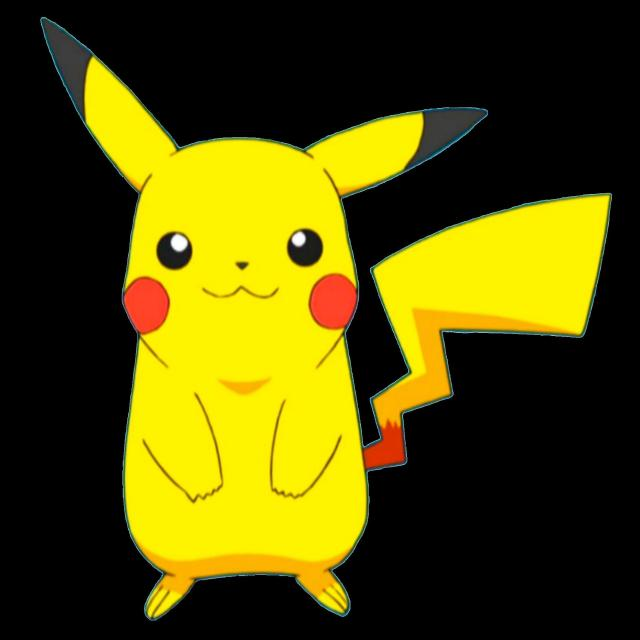pikachu: (40, 14, 612, 622)
